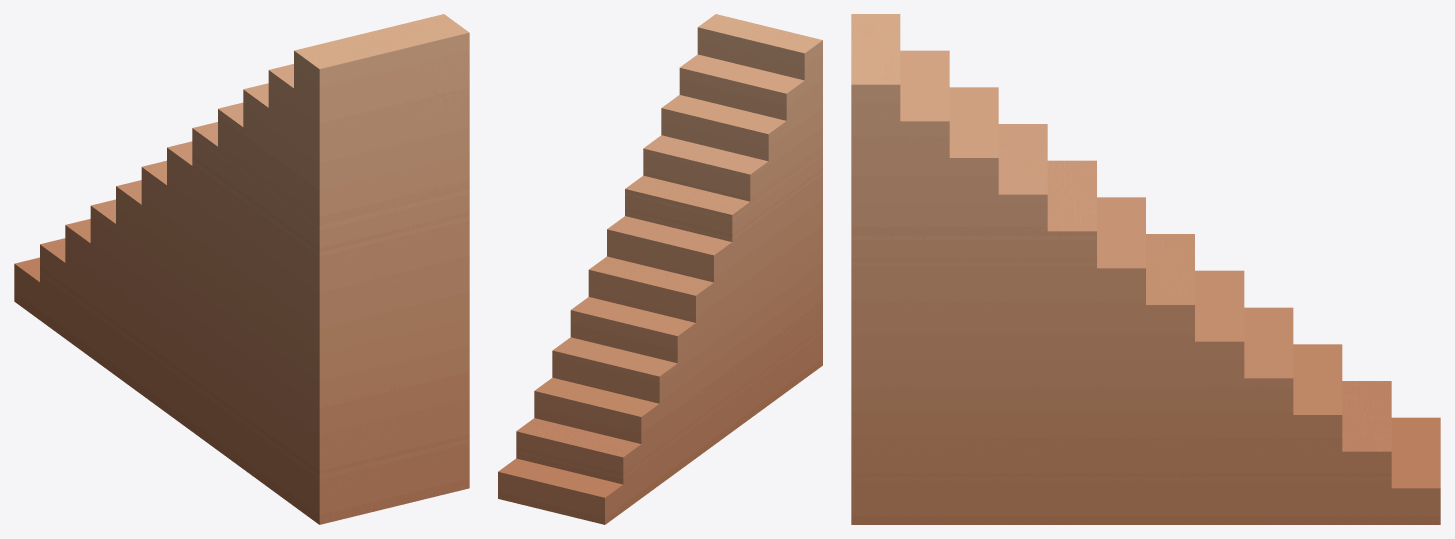
The model's file is stairs-stone-square.glb.
The picture shows the model from 3 angles, left to right: view 1: azimuth 30°, elevation 25°; view 2: azimuth 150°, elevation 25°; view 3: azimuth 270°, elevation 25°; orthographic projection. The views are drawn at different scales.
Visible parts, largest first — view 1: stairs-stone-square; view 2: stairs-stone-square; view 3: stairs-stone-square.
Part boxes in pixels (<box>): stairs-stone-square: <box>14,14,469,524</box>; stairs-stone-square: <box>498,14,822,524</box>; stairs-stone-square: <box>851,14,1440,524</box>.
Bounding box in the file's own units: 0.2325 × 0.675 × 0.819.
1 material, 1 textured.
